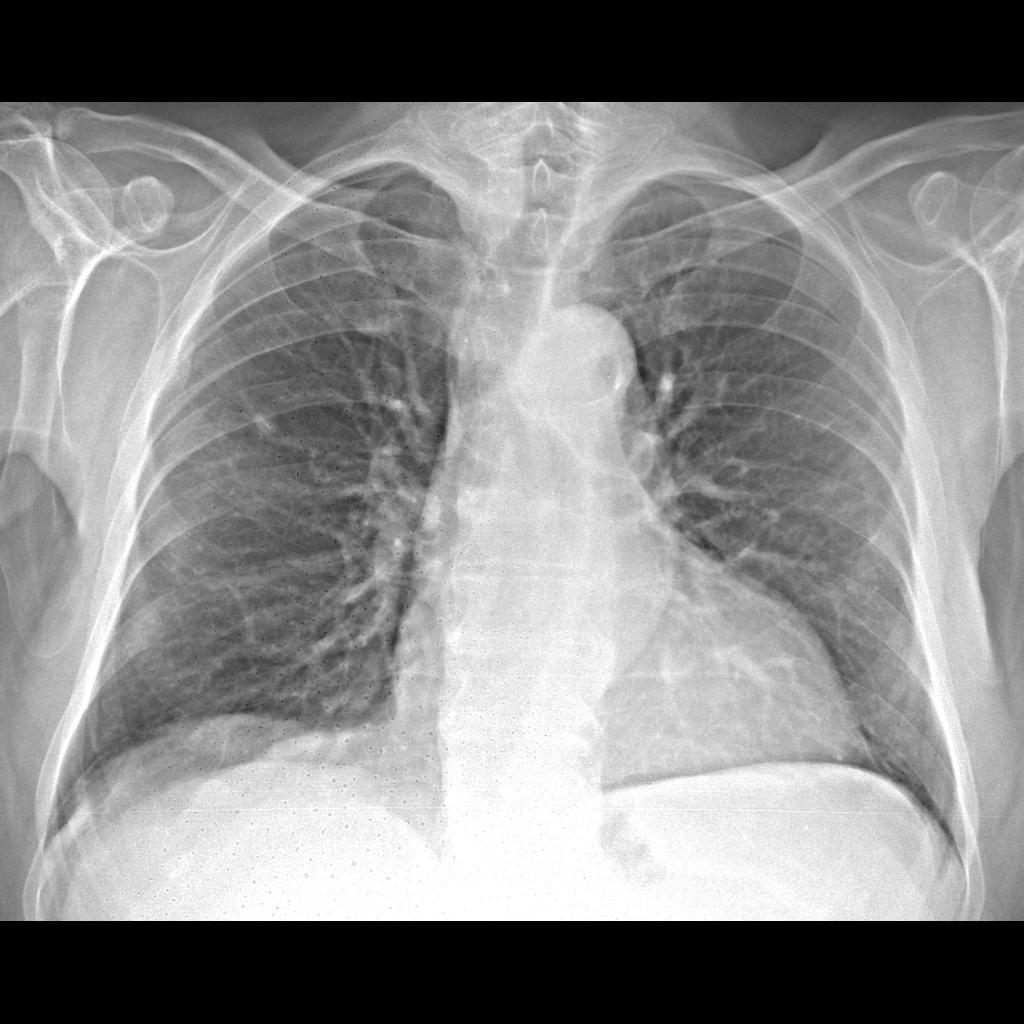Nodule: (247, 408, 283, 437)
